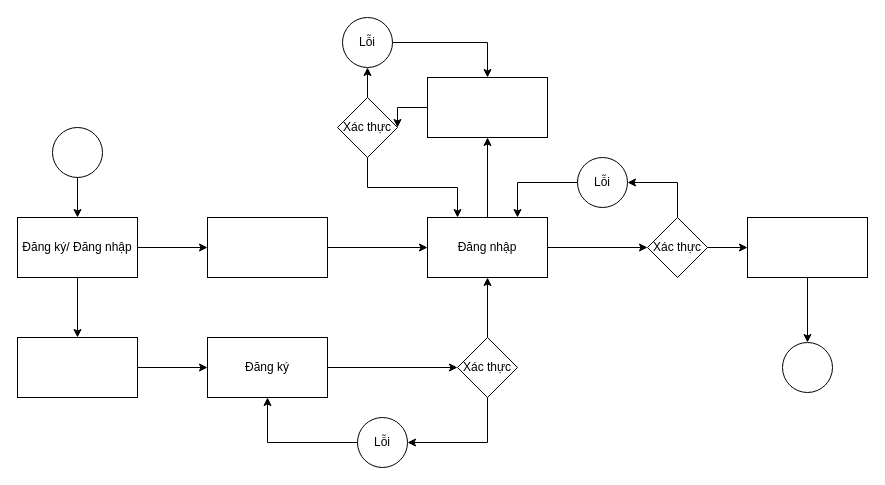
Image size: 885x485. Some labels were removed from this diagram. The shapes that lost their labels are listed below. From the top down, each one's centre as x and y in pixels, then its label:
At pixel 487 107: "Quên mật khẩu".
At pixel 267 247: "Người dùng đăng nhập".
At pixel 807 247: "Trang chủ".
At pixel 77 367: "Người dùng đăng ký".
